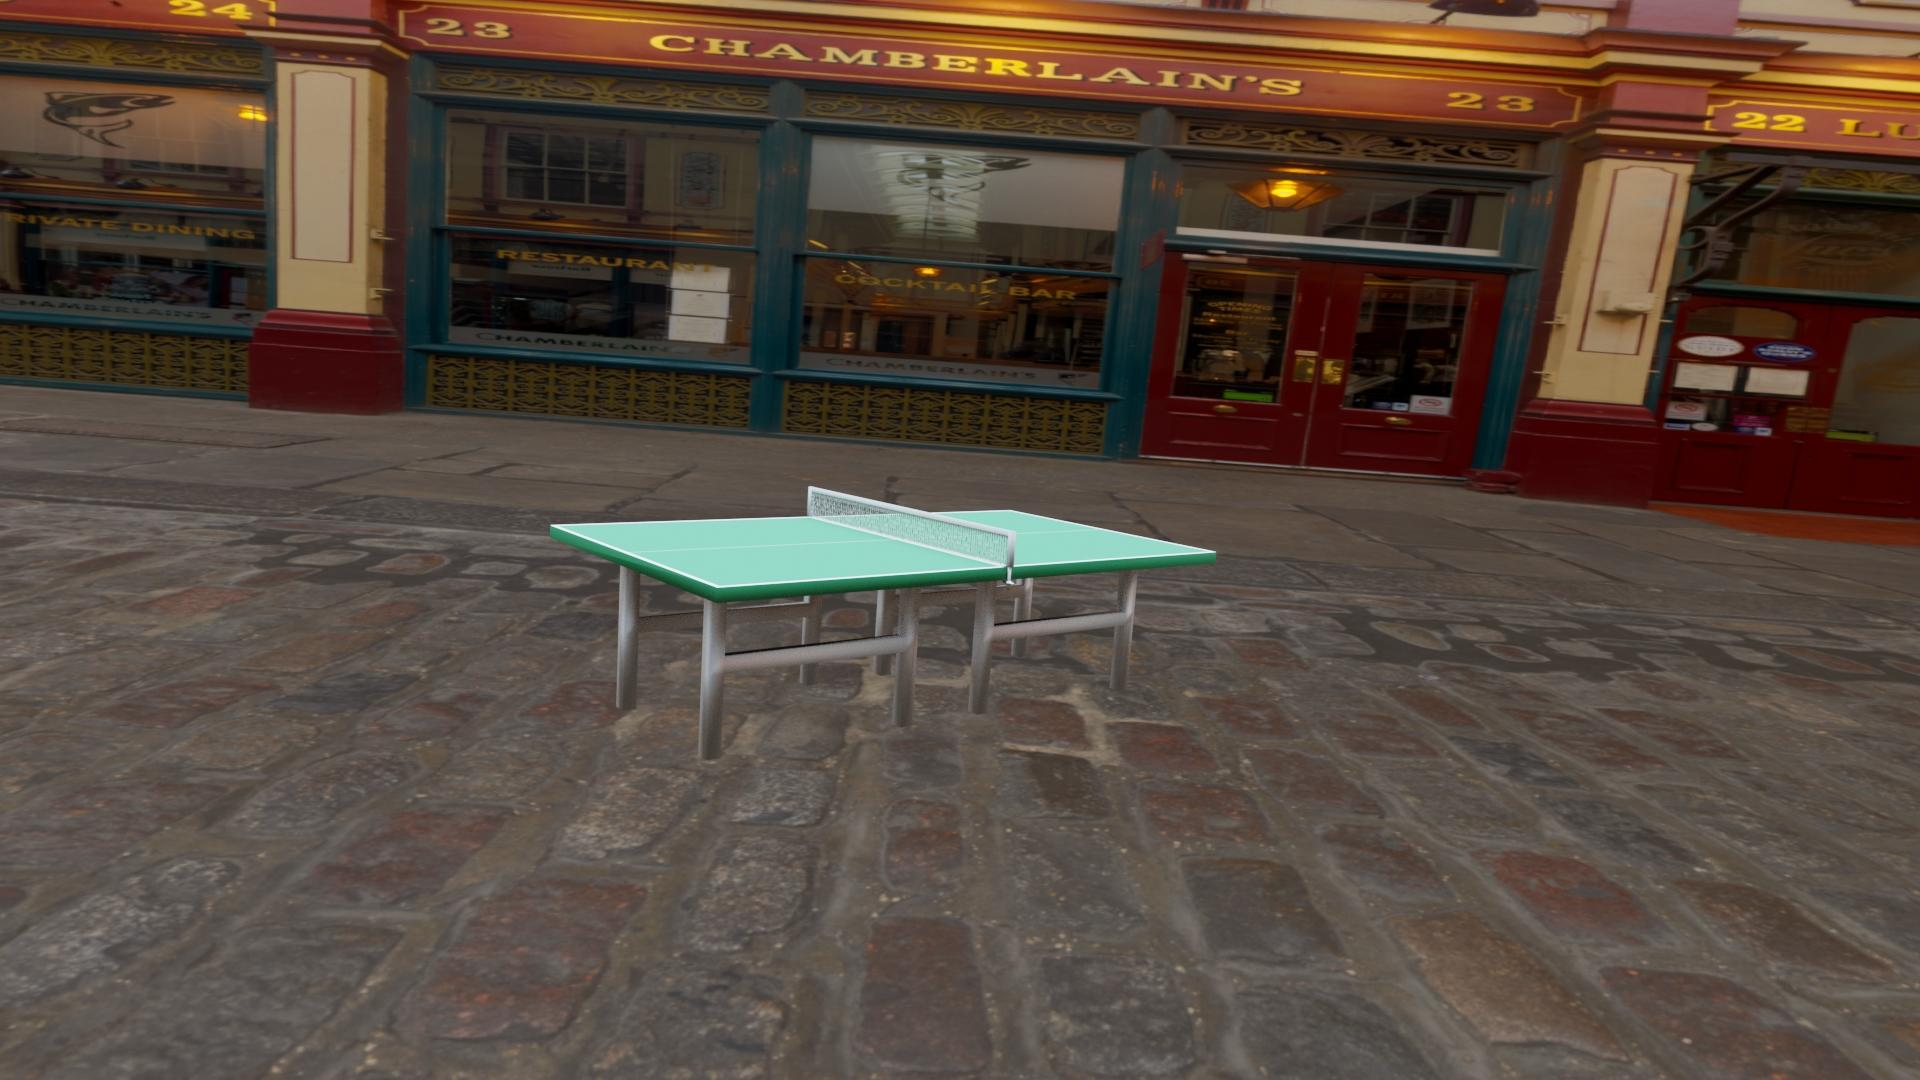table: (556, 510, 1211, 585)
